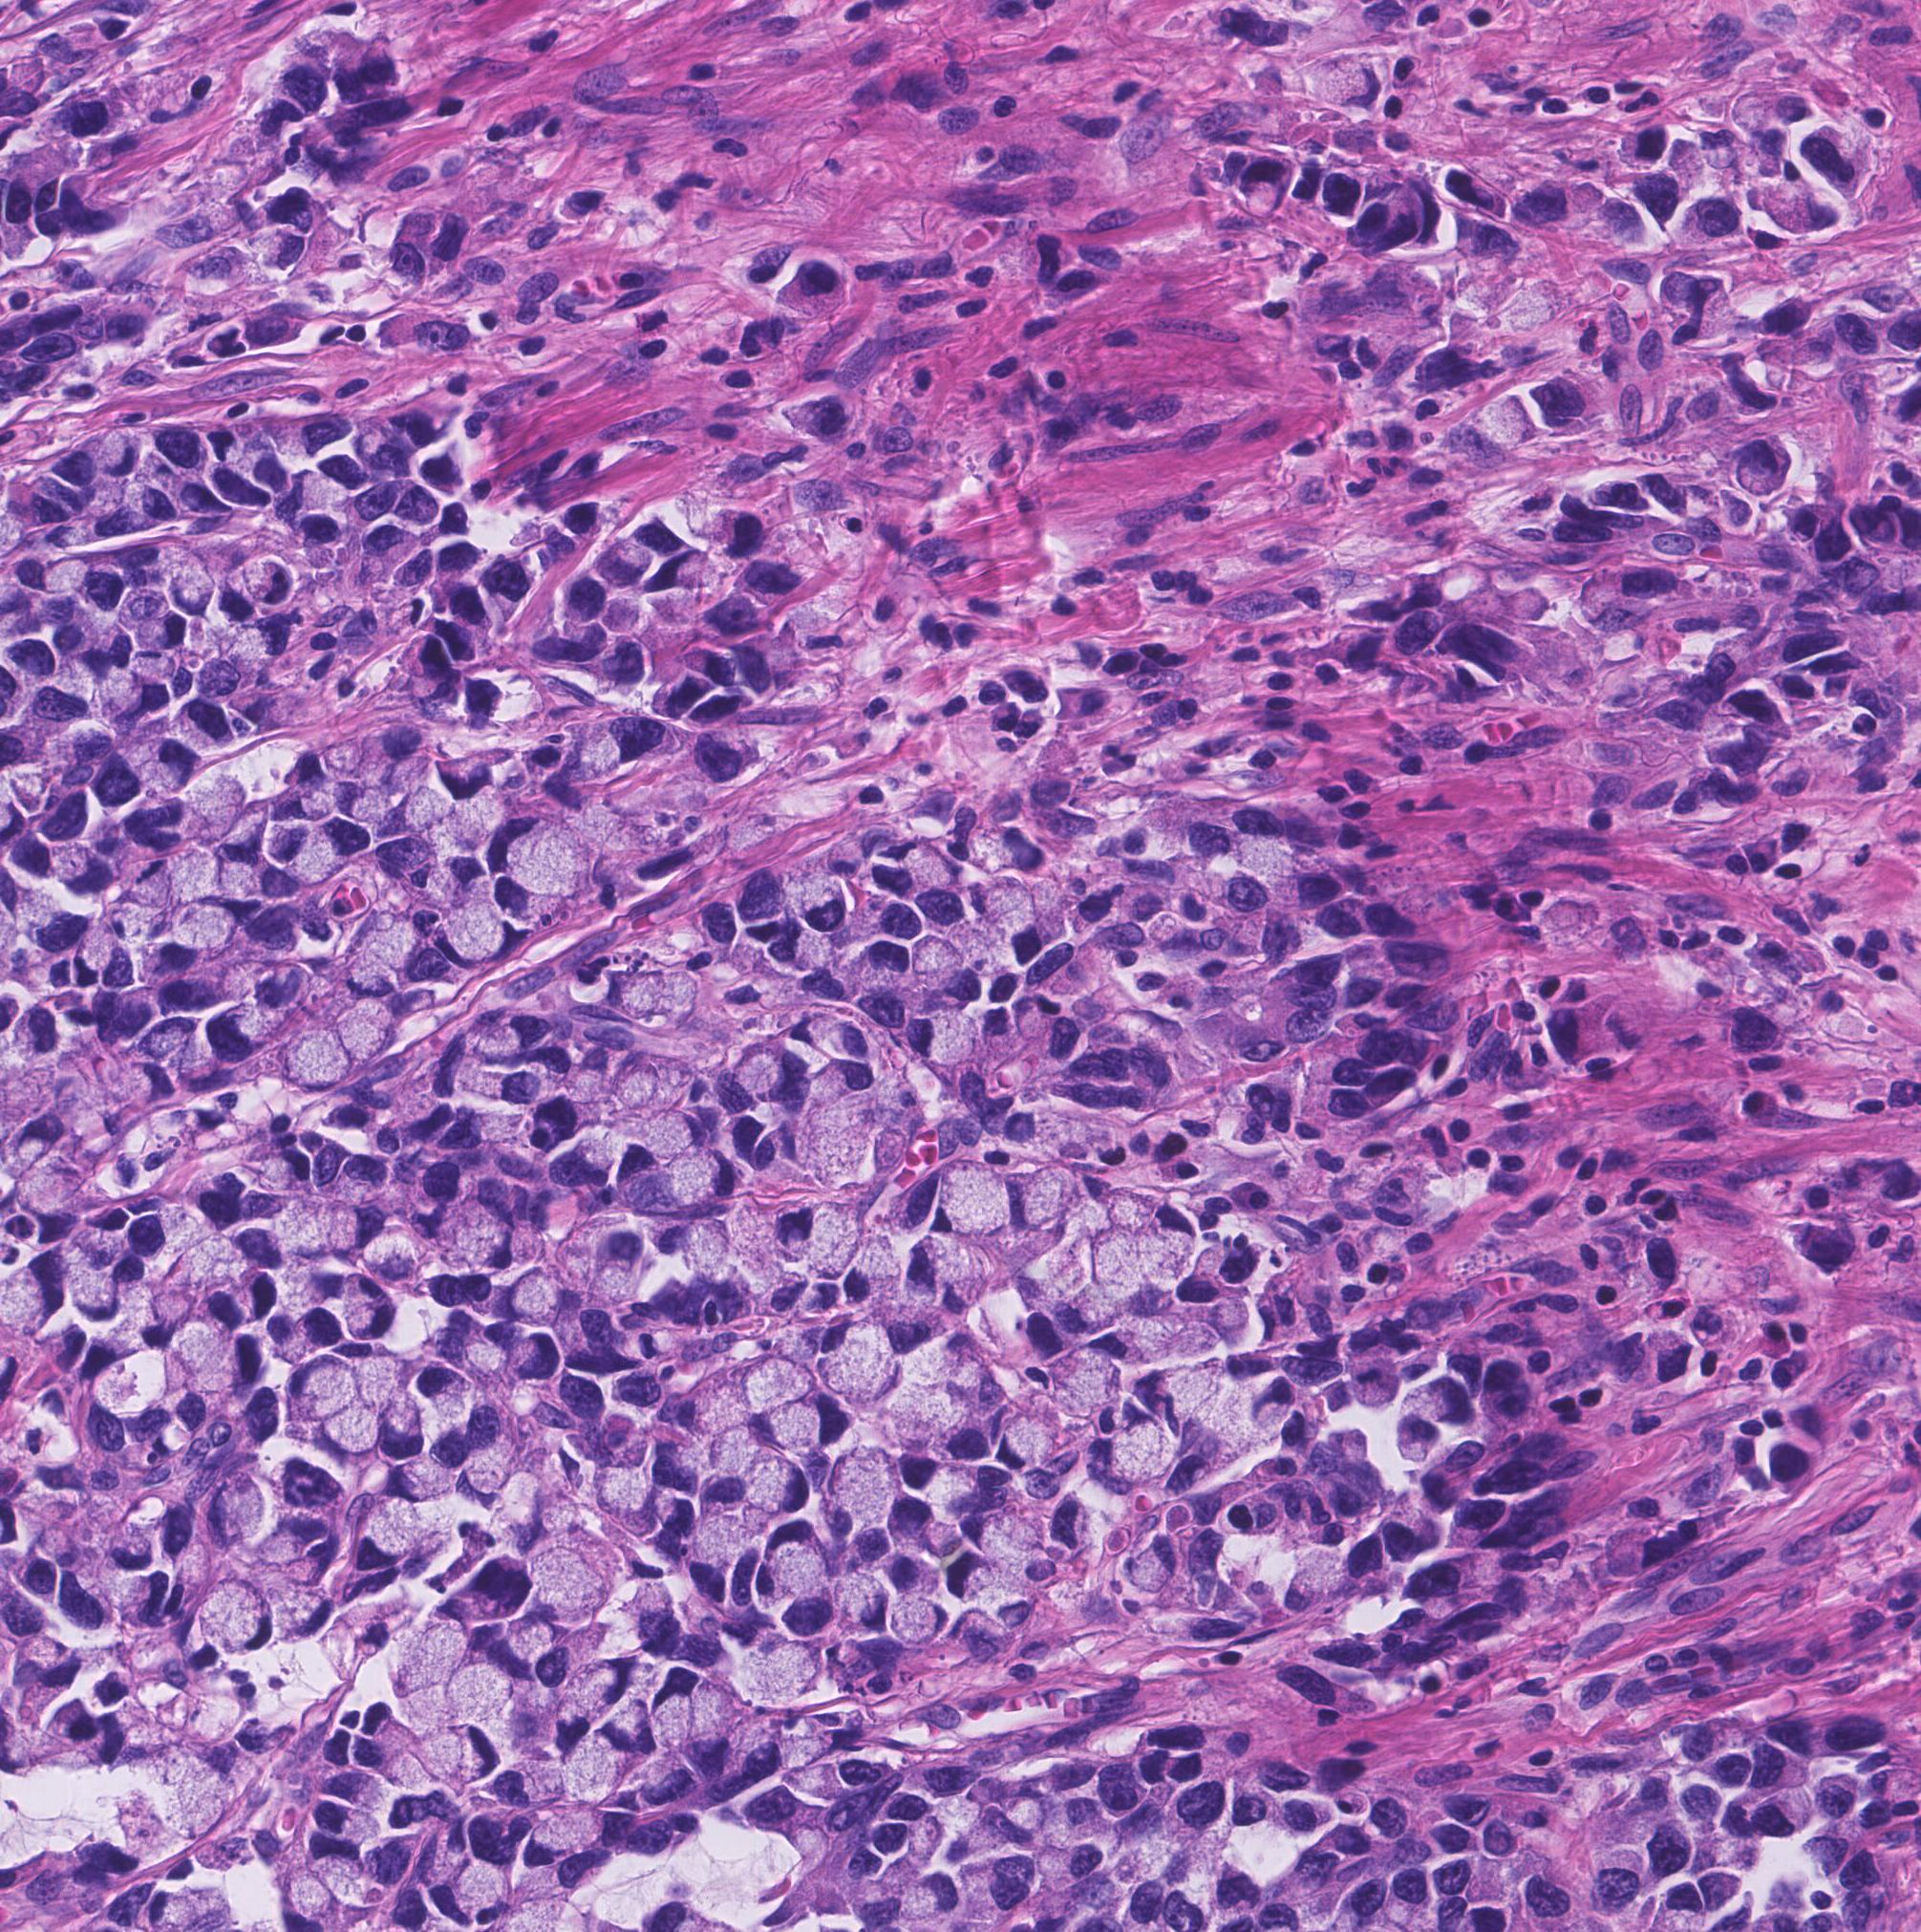ring_cell_cancer: (153, 1751, 237, 1841), (493, 813, 581, 896), (572, 711, 670, 776), (88, 1346, 171, 1418), (531, 1547, 607, 1624), (820, 1327, 901, 1399), (436, 1198, 519, 1269), (939, 1161, 1015, 1237), (204, 1575, 273, 1656), (399, 1606, 463, 1693), (1045, 1341, 1126, 1408), (762, 1520, 825, 1605), (739, 1638, 820, 1703), (829, 1446, 901, 1519), (442, 1659, 517, 1723), (617, 1580, 679, 1658), (1226, 808, 1291, 880), (568, 1730, 628, 1807), (431, 746, 515, 801), (735, 1355, 814, 1413), (202, 1475, 271, 1541), (433, 1721, 503, 1786), (902, 1006, 983, 1063), (1752, 1738, 1826, 1800), (693, 1480, 748, 1562), (172, 1686, 246, 1745), (806, 1198, 860, 1279), (834, 1571, 901, 1636), (960, 1513, 1052, 1561), (1764, 185, 1854, 232), (438, 904, 505, 968), (1288, 1547, 1349, 1615), (690, 1673, 748, 1745), (522, 1811, 602, 1863), (890, 1385, 964, 1441), (208, 1001, 278, 1059), (280, 1028, 350, 1086), (677, 1218, 735, 1288), (593, 1226, 646, 1304), (359, 1492, 415, 1564), (436, 1872, 510, 1927), (1736, 435, 1800, 498), (992, 1411, 1055, 1475), (491, 1756, 565, 1809), (688, 732, 762, 785), (266, 1582, 332, 1640), (1796, 127, 1863, 185), (459, 1063, 545, 1107), (338, 998, 398, 1061), (568, 1656, 632, 1716), (786, 262, 853, 318), (308, 820, 375, 876), (1022, 1163, 1078, 1230), (595, 1459, 656, 1519), (195, 1337, 259, 1395), (1684, 197, 1749, 253), (127, 804, 209, 848), (895, 839, 964, 892), (289, 1360, 357, 1413), (969, 825, 1045, 873), (500, 1272, 561, 1330), (1114, 1418, 1172, 1480), (1119, 1541, 1177, 1603), (373, 841, 445, 890), (51, 841, 116, 896), (19, 894, 84, 948), (728, 1050, 793, 1105), (23, 1161, 90, 1214), (915, 1332, 982, 1385), (758, 1401, 825, 1453), (318, 1200, 382, 1255), (971, 883, 1034, 938), (1145, 1207, 1198, 1272), (983, 1797, 1048, 1849), (391, 1086, 452, 1140), (1154, 1364, 1216, 1418), (795, 882, 858, 934), (1756, 1795, 1826, 1842), (1316, 58, 1381, 109), (672, 1151, 737, 1202), (160, 465, 225, 516), (324, 1404, 383, 1459), (591, 537, 660, 584), (950, 1550, 1001, 1614), (1759, 1443, 1817, 1497), (100, 435, 160, 487), (749, 1455, 809, 1508), (563, 1047, 614, 1109), (433, 804, 494, 855), (121, 1211, 199, 1251), (813, 1057, 876, 1107), (25, 686, 88, 735), (248, 616, 304, 670), (1240, 162, 1293, 220), (276, 1207, 334, 1260), (141, 739, 199, 792), (1170, 1784, 1228, 1837), (1404, 176, 1450, 243), (705, 507, 765, 558), (167, 904, 239, 947), (237, 436, 292, 491), (125, 1636, 181, 1689), (172, 843, 223, 901), (779, 1758, 846, 1802), (362, 1233, 424, 1281), (851, 947, 913, 994), (674, 1388, 735, 1436), (649, 1686, 695, 1749), (137, 1019, 201, 1065), (120, 1578, 176, 1629), (380, 1397, 429, 1455), (647, 553, 714, 595), (172, 702, 234, 748), (391, 635, 452, 681), (482, 1017, 554, 1056), (454, 1110, 526, 1149), (1381, 1511, 1434, 1564), (1492, 399, 1546, 450), (125, 1061, 176, 1116), (535, 1186, 589, 1237), (292, 463, 348, 512), (9, 1123, 58, 1179), (362, 424, 420, 472), (1428, 1374, 1474, 1434), (792, 401, 851, 447), (70, 1267, 123, 1318), (12, 1272, 63, 1325), (420, 1369, 473, 1420), (364, 1705, 417, 1756), (47, 1694, 99, 1747), (505, 1696, 558, 1747), (42, 1063, 93, 1116), (895, 1592, 950, 1642), (56, 651, 106, 706), (1502, 581, 1559, 628), (1094, 1233, 1140, 1292), (389, 1459, 454, 1499), (281, 1263, 341, 1307), (885, 1550, 945, 1594), (1059, 1293, 1121, 1336), (194, 653, 246, 702), (65, 1109, 118, 1158), (1048, 1499, 1092, 1557), (313, 1802, 382, 1839), (609, 968, 661, 1015), (565, 1138, 617, 1186), (507, 1337, 559, 1385), (142, 1290, 195, 1337), (1351, 1360, 1404, 1408), (1597, 625, 1652, 670), (246, 556, 301, 602), (259, 1153, 320, 1193), (70, 927, 114, 984), (1235, 1782, 1279, 1839), (709, 1425, 758, 1475), (463, 1452, 512, 1501), (1395, 1413, 1443, 1464), (1107, 1182, 1152, 1235), (901, 1804, 946, 1856), (559, 581, 612, 626), (169, 560, 213, 614), (352, 947, 396, 1001), (943, 1258, 987, 1313), (391, 795, 452, 834), (116, 586, 172, 628), (362, 524, 420, 565), (357, 1351, 405, 1401), (1010, 996, 1055, 1047), (818, 838, 871, 882), (561, 1230, 605, 1283), (646, 1114, 700, 1156), (508, 1614, 558, 1659), (1247, 1385, 1293, 1434), (617, 1061, 665, 1107), (436, 540, 486, 584), (779, 1117, 820, 1170), (95, 507, 162, 538), (987, 1056, 1041, 1094), (347, 1302, 401, 1341), (1099, 1724, 1154, 1763), (658, 980, 704, 1026), (111, 1526, 157, 1571), (341, 1156, 389, 1200), (906, 1244, 953, 1288), (1719, 1781, 1756, 1837), (904, 1877, 959, 1914), (114, 992, 160, 1036), (468, 1336, 514, 1379), (127, 862, 174, 904), (26, 1533, 86, 1566), (137, 616, 186, 656), (908, 938, 959, 977), (1205, 1295, 1256, 1334), (257, 1526, 308, 1564), (325, 1770, 387, 1802), (1284, 1795, 1328, 1839), (827, 1017, 873, 1059), (39, 1328, 81, 1374), (37, 554, 86, 593), (343, 781, 387, 823), (21, 1635, 70, 1672), (748, 243, 792, 283), (385, 753, 431, 792), (324, 739, 364, 781), (222, 815, 267, 852), (297, 778, 338, 818), (269, 820, 304, 866), (188, 779, 248, 806), (107, 904, 150, 940), (968, 934, 1003, 977), (241, 1270, 274, 1314), (874, 1128, 906, 1170), (792, 1015, 830, 1047), (47, 524, 86, 553), (42, 1501, 76, 1526)
